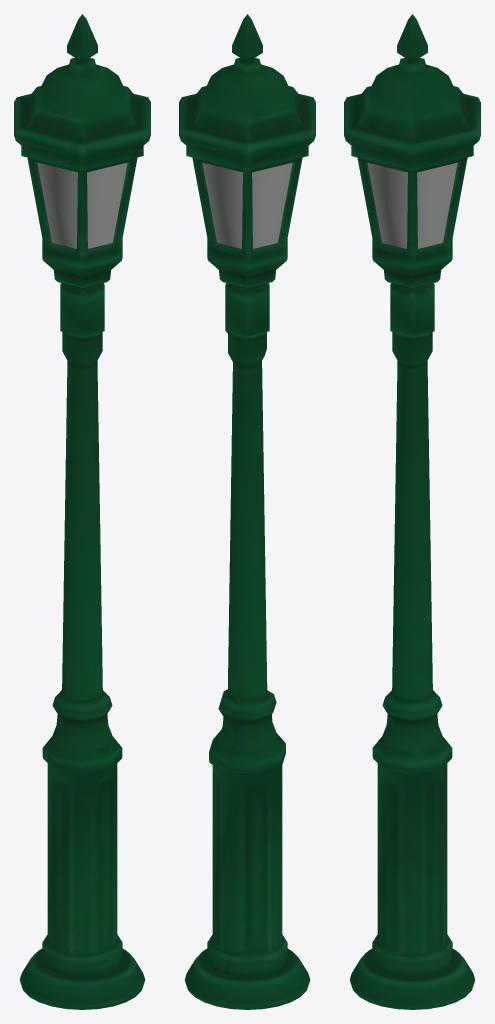
Rendered from streetlamp.glb.
The picture shows the model from 3 angles, left to right: view 1: azimuth 90°, elevation 25°; view 2: azimuth 150°, elevation 25°; view 3: azimuth 270°, elevation 25°; orthographic projection.
Bounding box in the file's own units: 4.3 × 29.15 × 3.73.
Materials: 3 (3 with a texture image).
